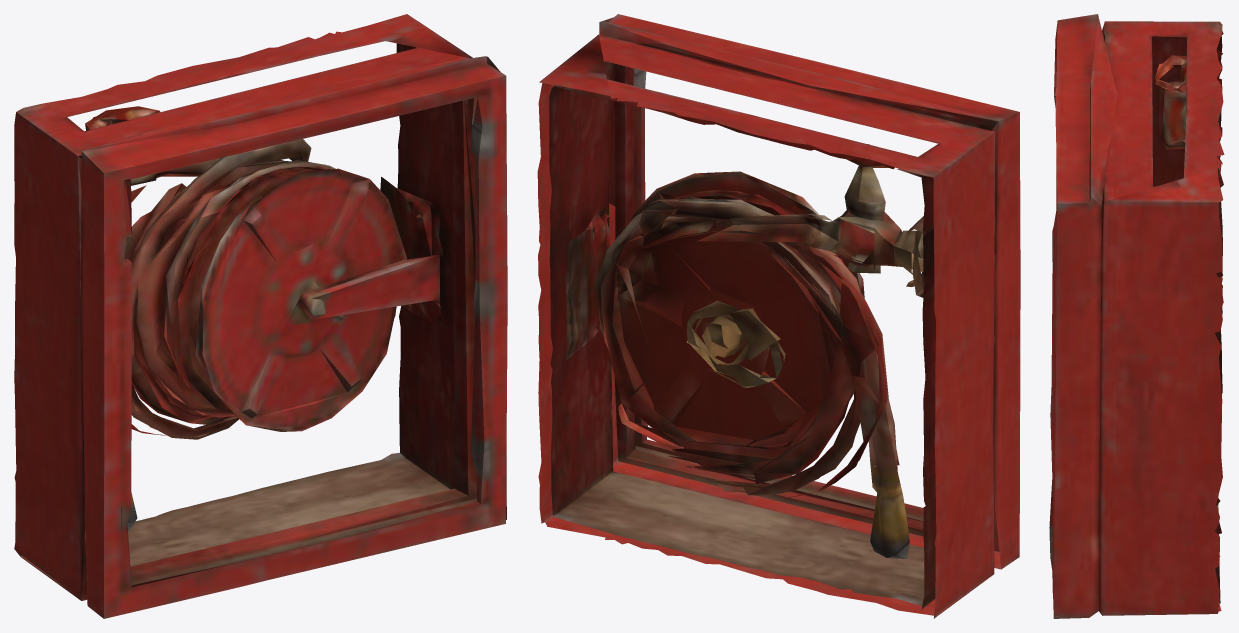
Rendered from p7-fire-hose-reel-cabinet.glb.
3 views of the same model, side by side, from view 1: azimuth 30°, elevation 25°; view 2: azimuth 150°, elevation 25°; view 3: azimuth 270°, elevation 25° (orthographic). The views are drawn at different scales.
Parts seen in each view (by area): view 1: p7-fire-hose-reel-cabinet; view 2: p7-fire-hose-reel-cabinet; view 3: p7-fire-hose-reel-cabinet.
Boxes of the visible parts, x1,y1,x2,y2 form: p7-fire-hose-reel-cabinet: (14, 14, 507, 618); p7-fire-hose-reel-cabinet: (537, 14, 1020, 618); p7-fire-hose-reel-cabinet: (1049, 14, 1224, 618).
Bounding box in the file's own units: 0.75 × 0.8 × 0.3.
1 material, 1 textured.
